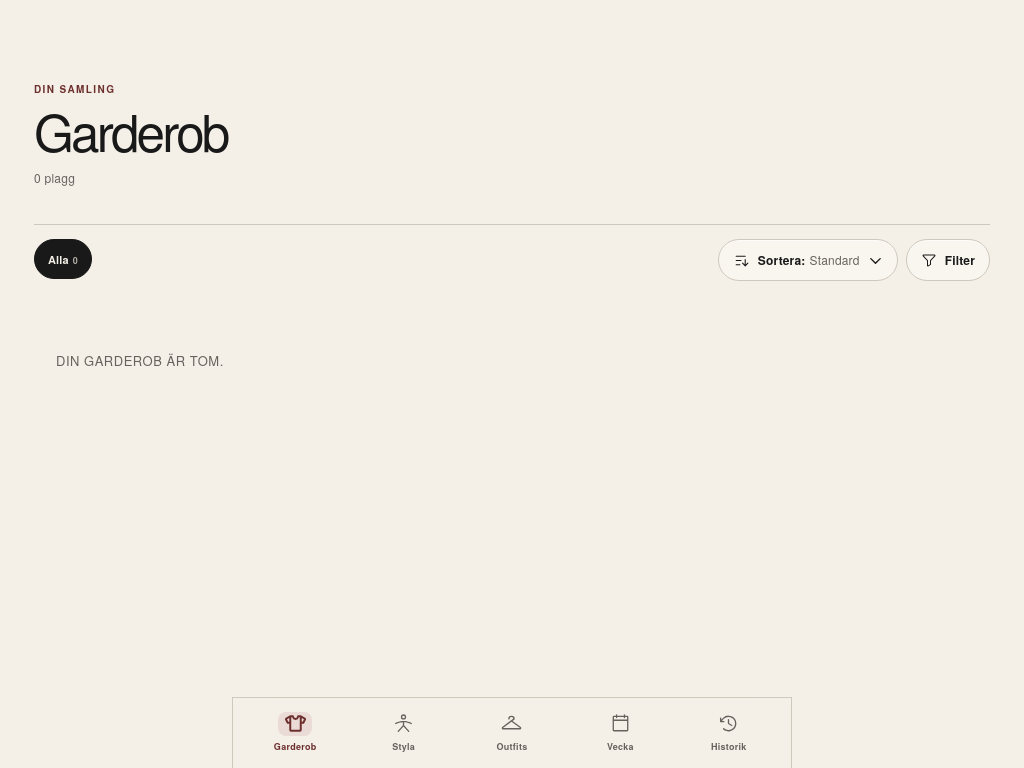
App dressing-room integration › labels placeholder sections without pretending they are persisted
Click the button "Outfits" at (512, 732), box [458,705,566,759]
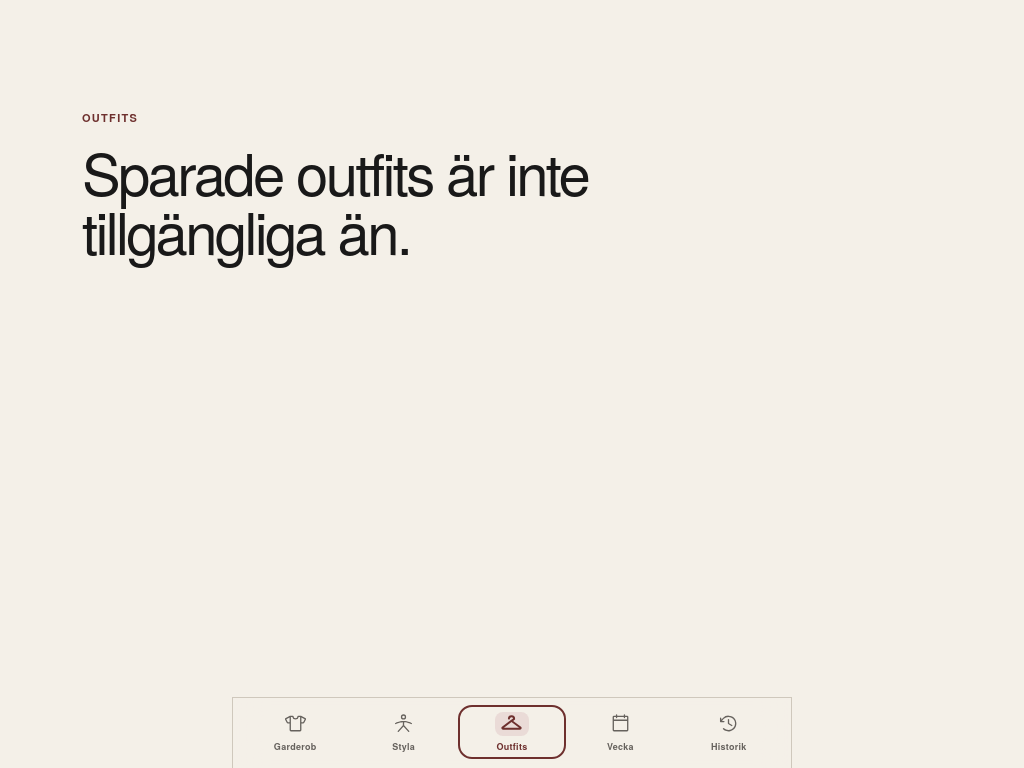
Result: the heading "Sparade outfits är inte tillgängliga än." is shown at [82,141,602,259]
Click the button "Historik" at (729, 732), box [675,705,783,759]
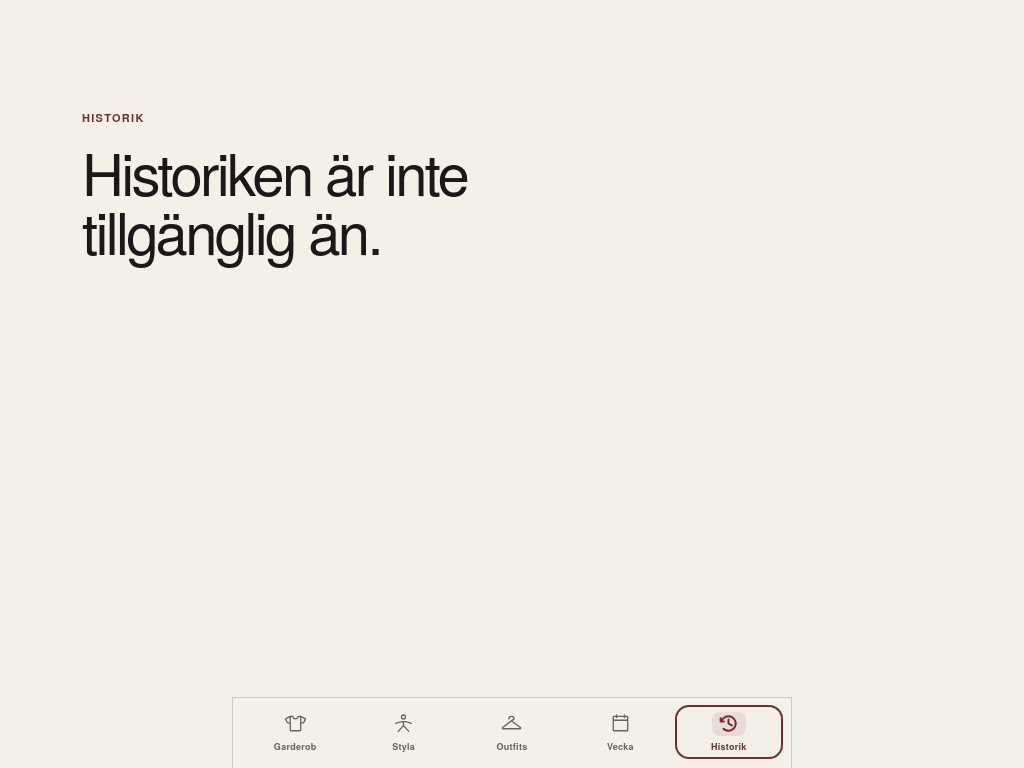
Result: the heading "Historiken är inte tillgänglig än." is shown at [82,129,467,271]
